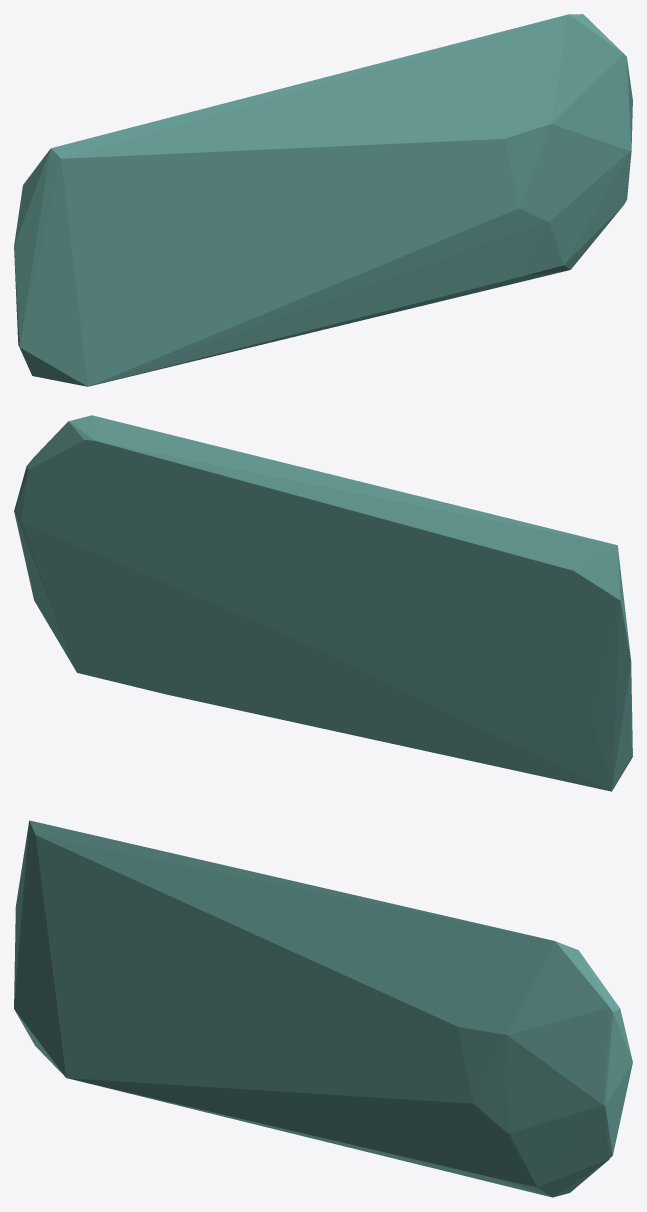
The model's file is ppe_gloves_chemical_a01.glb.
3 views of the same model, one above another, from view 1: azimuth 30°, elevation 25°; view 2: azimuth 150°, elevation 25°; view 3: azimuth 330°, elevation 25° (orthographic).
Visible parts, largest first — view 1: geometry_0; view 2: geometry_0; view 3: geometry_0.
Boxes of the visible parts, box(x1,y1,x2,y2) form: geometry_0: box(14, 14, 632, 386); geometry_0: box(14, 415, 632, 791); geometry_0: box(14, 820, 632, 1197).
Size of the model in its own units: 0.4785 by 0.1882 by 0.035.
